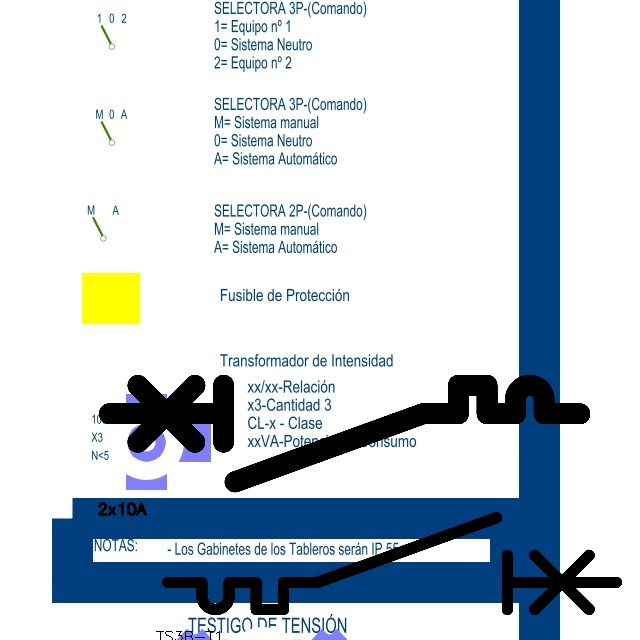interruptor_termomagnetico: (97, 373, 592, 494), (156, 506, 628, 621)
